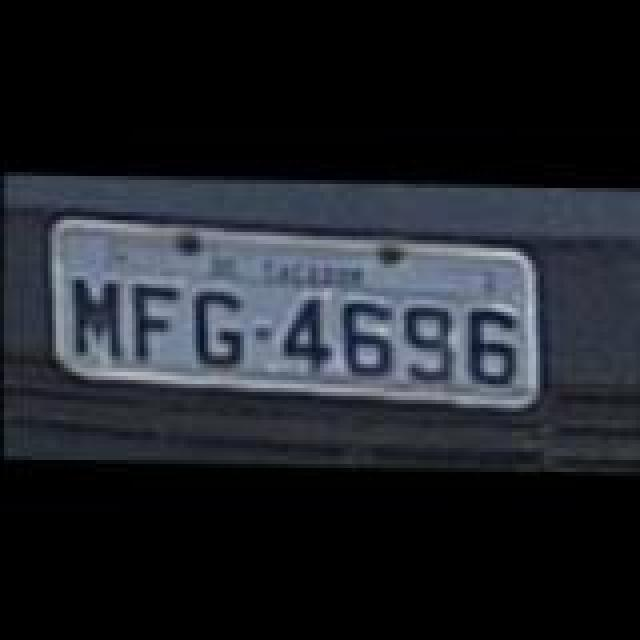4: (280, 292, 340, 368)
6: (462, 300, 526, 380), (338, 296, 402, 372)
9: (398, 302, 462, 378)
F: (130, 278, 186, 358)
G: (188, 286, 248, 362)
M: (68, 274, 128, 358)
